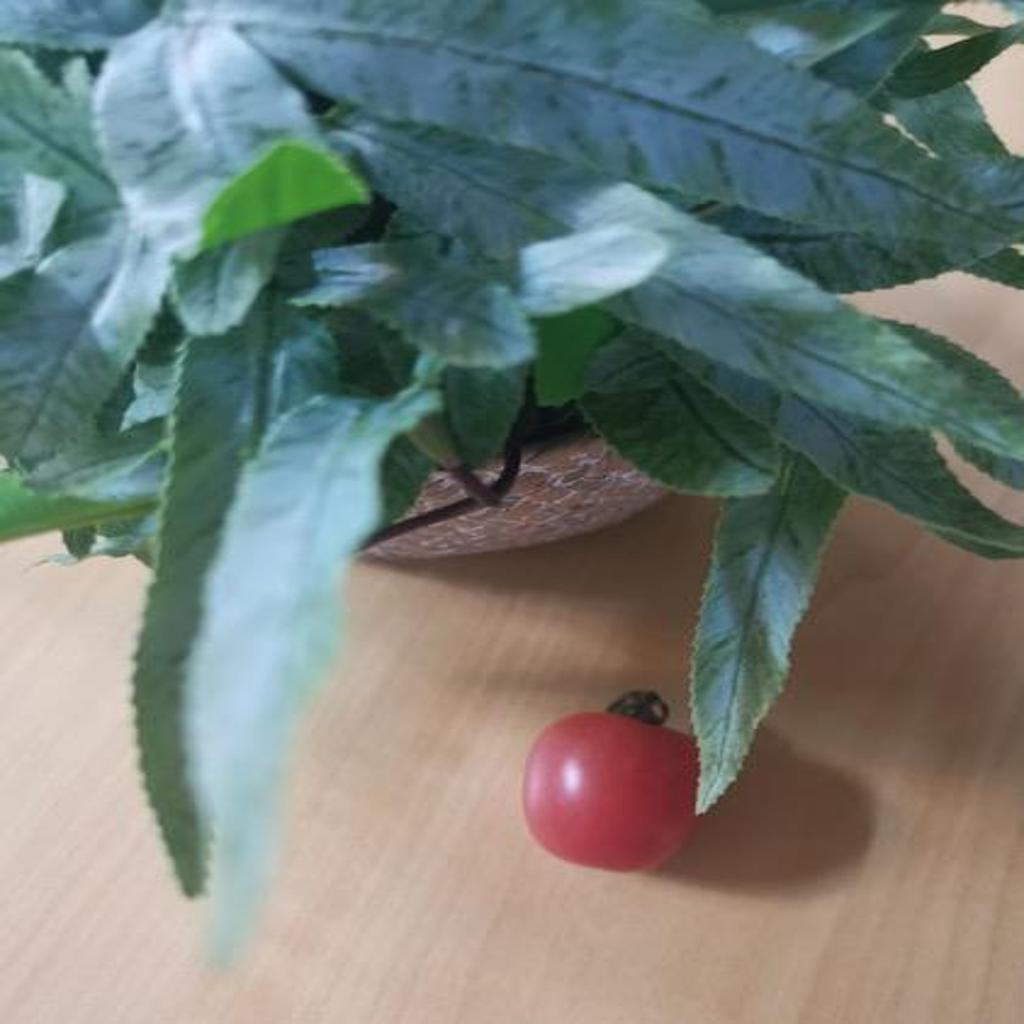tomato: (510, 694, 714, 873)
